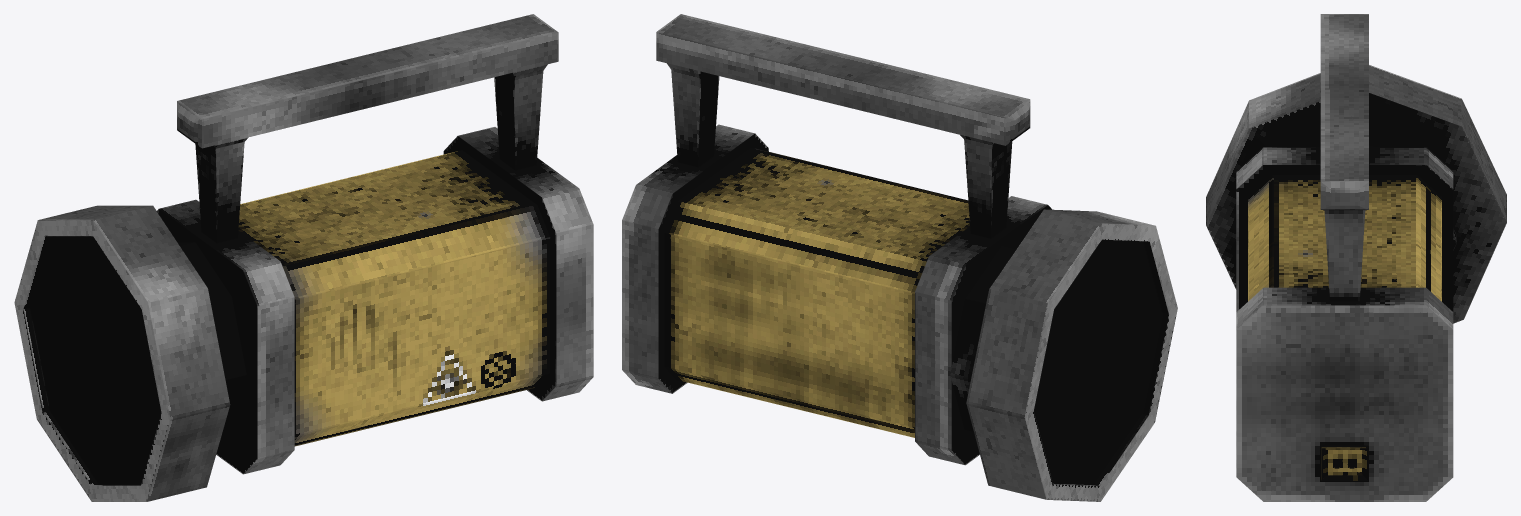
File: handflashlight.glb
3 views of the same model, side by side, from view 1: azimuth 30°, elevation 25°; view 2: azimuth 150°, elevation 25°; view 3: azimuth 270°, elevation 25° (orthographic). The views are drawn at different scales.
Parts seen in each view (by area): view 1: Cube, Cube.001; view 2: Cube, Cube.001; view 3: Cube.
Boxes of the visible parts, bbox=[...] form: Cube: bbox=[14, 14, 593, 501]; Cube.001: bbox=[30, 236, 161, 483]; Cube: bbox=[622, 14, 1177, 501]; Cube.001: bbox=[1034, 239, 1162, 483]; Cube: bbox=[1206, 14, 1506, 501].
Size of the model in its own units: 5.44 by 4.31 by 3.25.
Materials: 1 (1 with a texture image).
